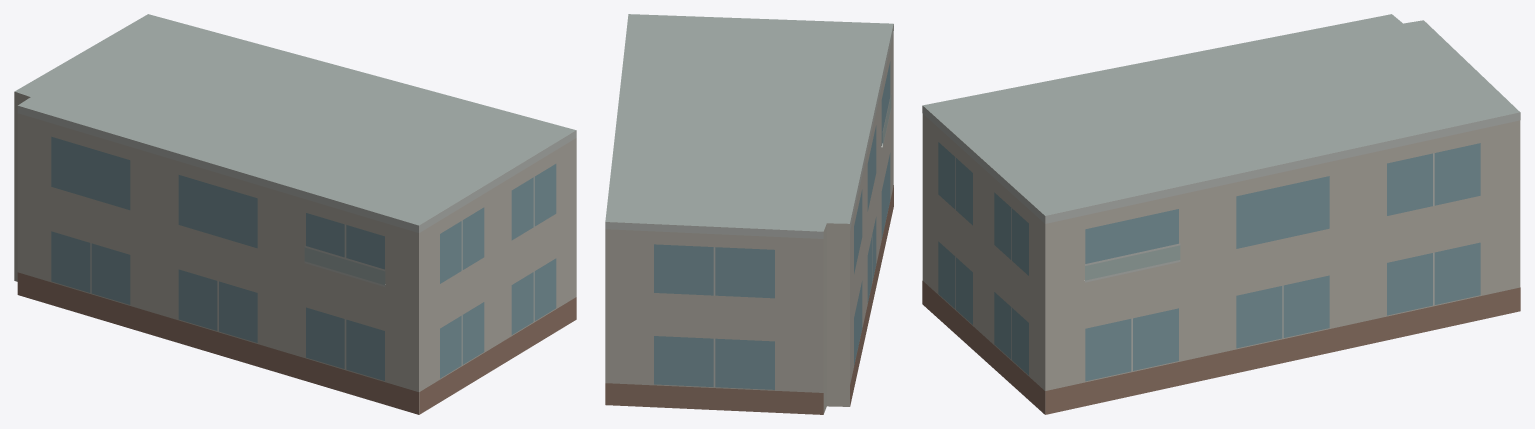
File: survey-upis-32741646.glb
3 renders of one model, left to right at view 1: azimuth 30°, elevation 25°; view 2: azimuth 150°, elevation 25°; view 3: azimuth 270°, elevation 25°, orthographic. The views are drawn at different scales.
Visible parts, largest first — view 1: survey-upis-32741646.tmp; view 2: survey-upis-32741646.tmp; view 3: survey-upis-32741646.tmp.
Part boxes in pixels (x1=…): survey-upis-32741646.tmp: x1=14, y1=14, x2=576, y2=414; survey-upis-32741646.tmp: x1=605, y1=14, x2=893, y2=414; survey-upis-32741646.tmp: x1=922, y1=14, x2=1520, y2=414.
Size of the model in its own units: 13.3 by 6.1 by 16.63.
